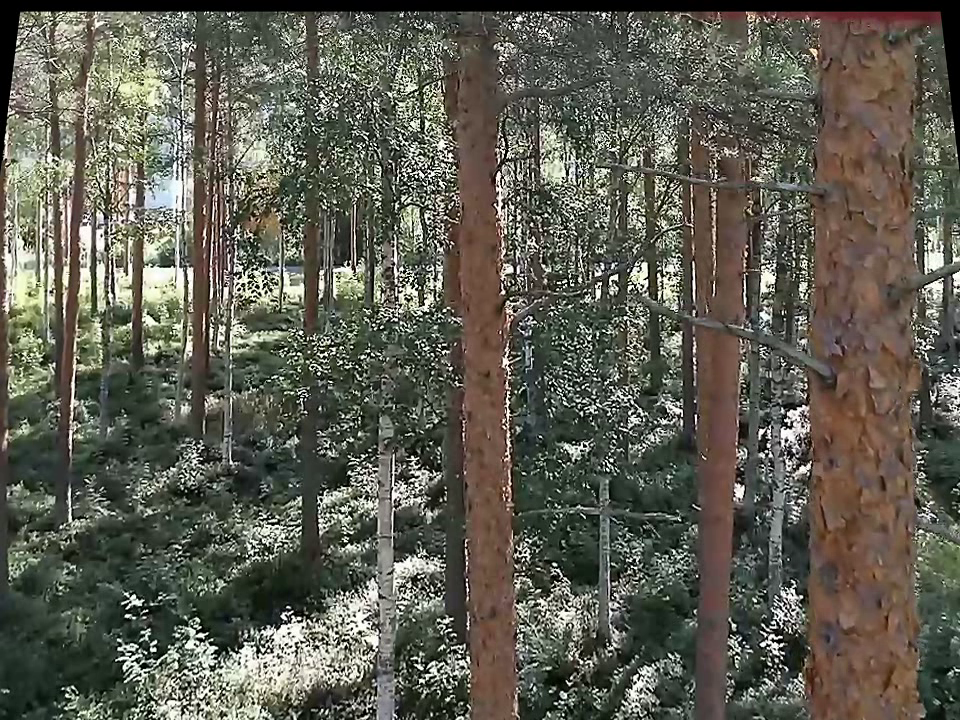branch: (631, 278, 808, 383), (585, 152, 808, 199), (512, 494, 679, 531), (502, 67, 611, 121)
trunk: (801, 20, 935, 718), (447, 29, 526, 712), (49, 67, 95, 537), (294, 32, 328, 561), (176, 31, 215, 450), (365, 384, 407, 716), (124, 127, 158, 383), (582, 470, 629, 648)
